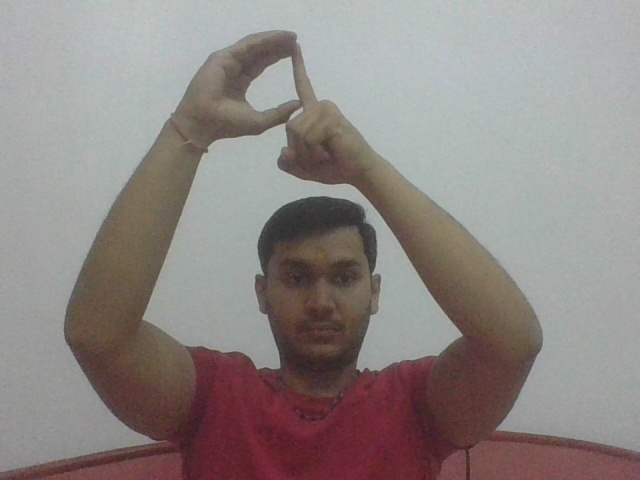D: (172, 27, 360, 187)
